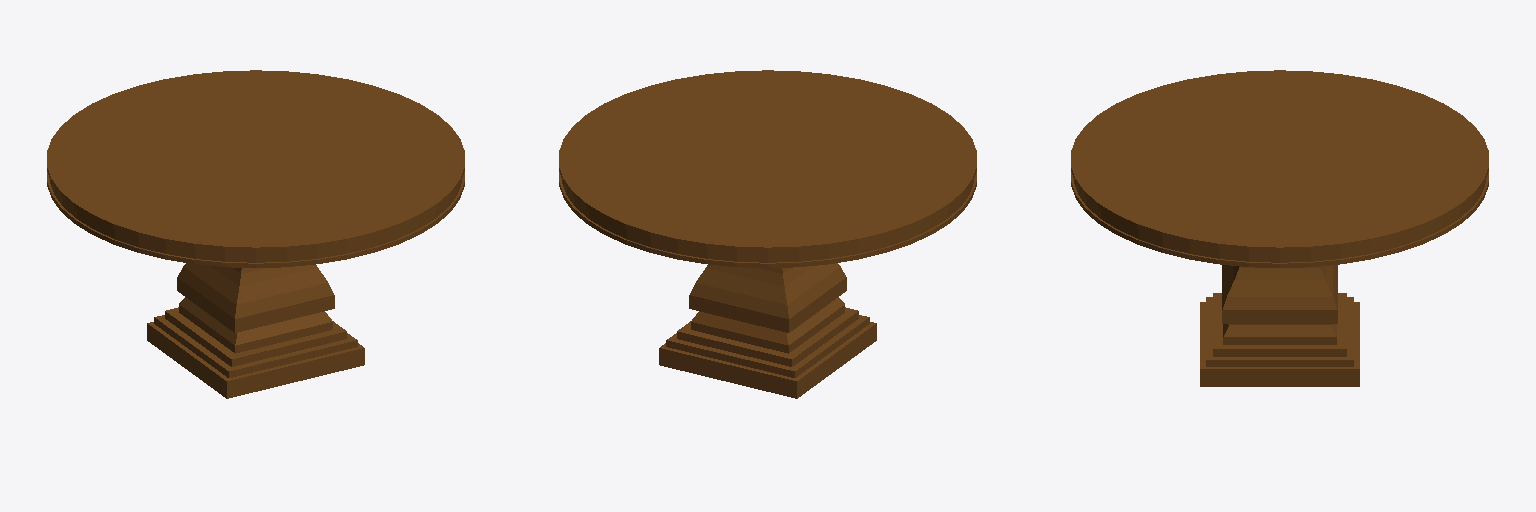
3 views of the same model, side by side, from view 1: azimuth 30°, elevation 25°; view 2: azimuth 150°, elevation 25°; view 3: azimuth 270°, elevation 25° (orthographic).
Parts seen in each view (by area): view 1: round_tableOBJ:Mesh; view 2: round_tableOBJ:Mesh; view 3: round_tableOBJ:Mesh.
Boxes of the visible parts, box(x1,y1,x2,y2) form: round_tableOBJ:Mesh: box(47, 70, 464, 398); round_tableOBJ:Mesh: box(559, 70, 976, 398); round_tableOBJ:Mesh: box(1071, 70, 1488, 386).
Size of the model in its own units: 4 by 2.04 by 3.99.
1 materials, 1 textured.